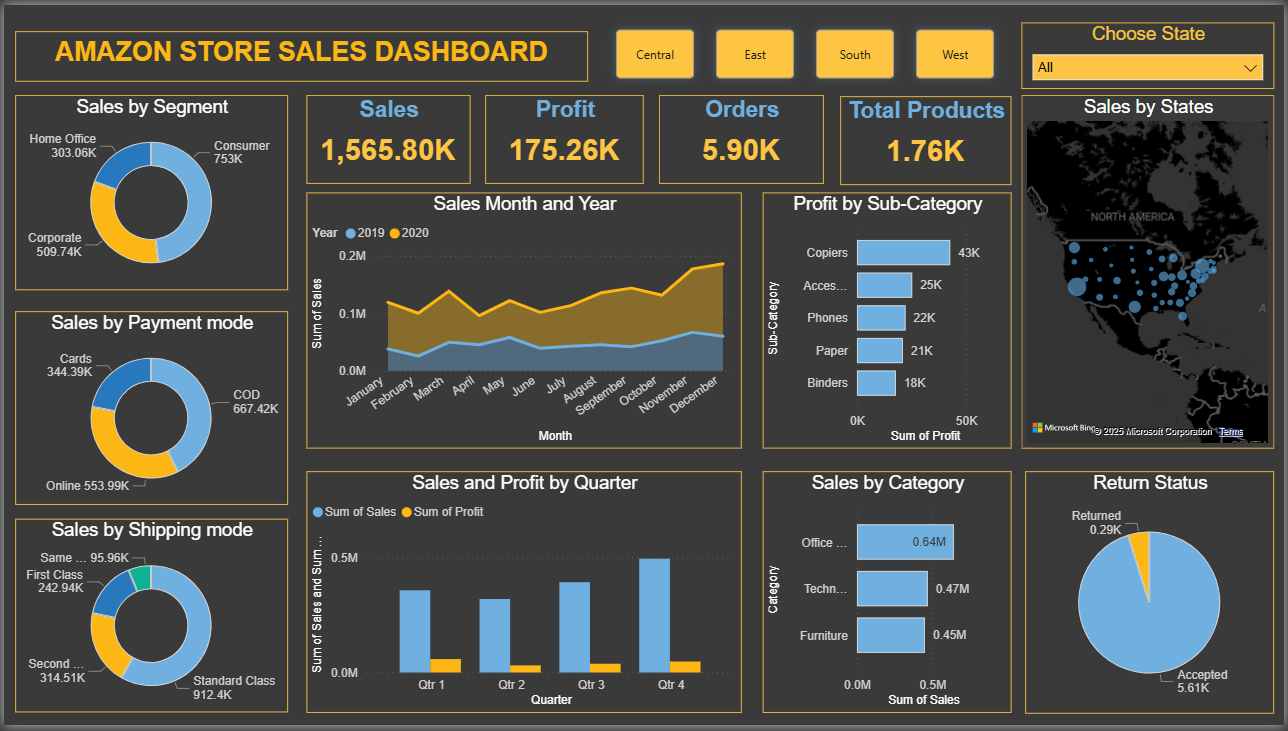

What the dashboard file says about the page in this screenshot:
{"tool":"powerbi","page":{"name":"Page 1","canvas":[1280,720],"ordinal":0},"visuals":[{"type":"donutChart","title":"Sales by Segment","fields":{"Category":["Amazon Store Sales Data xlsx - Sheet1 (1).Segment"],"Y":["Sum(Amazon Store Sales Data xlsx - Sheet1 (1).Sales)"]},"box":[11.2,90,272.5,195],"z":0},{"type":"donutChart","title":"Sales by Payment mode","fields":{"Y":["Sum(Amazon Store Sales Data xlsx - Sheet1 (1).Sales)"],"Category":["Amazon Store Sales Data xlsx - Sheet1 (1).Payment Mode"]},"box":[11.2,306.2,272.5,193.8],"z":1000},{"type":"donutChart","title":"Sales by Shipping mode","fields":{"Y":["Sum(Amazon Store Sales Data xlsx - Sheet1 (1).Sales)"],"Category":["Amazon Store Sales Data xlsx - Sheet1 (1).Ship Mode"]},"box":[11.2,513.8,272.5,193.8],"z":2000},{"type":"clusteredBarChart","title":"Profit by Sub-Category","fields":{"Y":["Sum(Amazon Store Sales Data xlsx - Sheet1 (1).Profit)"],"Category":["Amazon Store Sales Data xlsx - Sheet1 (1).Sub-Category"]},"box":[758.8,187.5,248.8,256.2],"z":3000},{"type":"clusteredBarChart","title":"Sales by Category","fields":{"Y":["Sum(Amazon Store Sales Data xlsx - Sheet1 (1).Sales)"],"Category":["Amazon Store Sales Data xlsx - Sheet1 (1).Category"]},"box":[758.8,466.2,248.8,241.2],"z":4000},{"type":"pieChart","title":"Return Status","fields":{"Y":["CountNonNull(Amazon Store Sales Data xlsx - Sheet1 (1).Order ID)"],"Category":["Amazon Store Sales Data xlsx - Sheet1 (1).Return status"]},"box":[1021.2,466.2,248.8,242.5],"z":5000},{"type":"map","title":"Sales by States","fields":{"Category":["Amazon Store Sales Data xlsx - Sheet1 (1).State"],"Size":["Sum(Amazon Store Sales Data xlsx - Sheet1 (1).Sales)"]},"box":[1017.5,90,252.5,353.8],"z":6000},{"type":"stackedAreaChart","title":"Sales Month and Year","fields":{"Y":["Sum(Amazon Store Sales Data xlsx - Sheet1 (1).Sales)"],"Category":["Amazon Store Sales Data xlsx - Sheet1 (1).Order Date.Variation.Date Hierarchy.Month"],"Series":["Amazon Store Sales Data xlsx - Sheet1 (1).Order Date.Variation.Date Hierarchy.Year"]},"box":[302.5,187.5,435,256.2],"z":7000},{"type":"clusteredColumnChart","title":"Sales and Profit by Quarter","fields":{"Category":["Amazon Store Sales Data xlsx - Sheet1 (1).Order Date.Variation.Date Hierarchy.Quarter"],"Y":["Sum(Amazon Store Sales Data xlsx - Sheet1 (1).Sales)","Sum(Amazon Store Sales Data xlsx - Sheet1 (1).Profit)"]},"box":[302.5,466.2,435,241.2],"z":8000},{"type":"card","title":"Sales","fields":{"Values":["Sum(Amazon Store Sales Data xlsx - Sheet1 (1).Sales)"]},"box":[302.5,90,163.8,88.8],"z":9000},{"type":"card","title":"Profit","fields":{"Values":["Sum(Amazon Store Sales Data xlsx - Sheet1 (1).Profit)"]},"box":[481.2,90,158.8,88.8],"z":10000},{"type":"card","title":"Orders","fields":{"Values":["CountNonNull(Amazon Store Sales Data xlsx - Sheet1 (1).Order ID)"]},"box":[655,90,165,88.8],"z":11000},{"type":"card","title":"Total Products","fields":{"Values":["Count(Amazon Store Sales Data xlsx - Sheet1 (1).Product ID)"]},"box":[836.2,91.2,171.2,88.8],"z":12000},{"type":"textbox","box":[11.2,26.2,572.5,50],"z":13000},{"type":"slicer","title":"Choose State","fields":{"Values":["Amazon Store Sales Data xlsx - Sheet1 (1).State"]},"box":[1017.5,17.5,252.5,66.2],"z":14000},{"type":"advancedSlicerVisual","fields":{"Values":["Amazon Store Sales Data xlsx - Sheet1 (1).Region"]},"box":[596.2,8.8,411.2,81.2],"z":15000}]}

Visuals, with their boxes in screenshot pixels (x1, y1, x2, y2), scaled from the page's 1280x720 canvas onto the 1288x731 screenshot:
"Sales by Segment" donutChart: box(11, 91, 285, 289)
"Sales by Payment mode" donutChart: box(11, 311, 285, 508)
"Sales by Shipping mode" donutChart: box(11, 522, 285, 718)
"Profit by Sub-Category" clusteredBarChart: box(764, 190, 1014, 450)
"Sales by Category" clusteredBarChart: box(764, 473, 1014, 718)
"Return Status" pieChart: box(1028, 473, 1278, 720)
"Sales by States" map: box(1024, 91, 1278, 451)
"Sales Month and Year" stackedAreaChart: box(304, 190, 742, 450)
"Sales and Profit by Quarter" clusteredColumnChart: box(304, 473, 742, 718)
"Sales" card: box(304, 91, 469, 182)
"Profit" card: box(484, 91, 644, 182)
"Orders" card: box(659, 91, 825, 182)
"Total Products" card: box(841, 93, 1014, 183)
textbox: box(11, 27, 587, 77)
"Choose State" slicer: box(1024, 18, 1278, 85)
advancedSlicerVisual - Amazon Store Sales Data xlsx - Sheet1 (1).Region: box(600, 9, 1014, 91)
